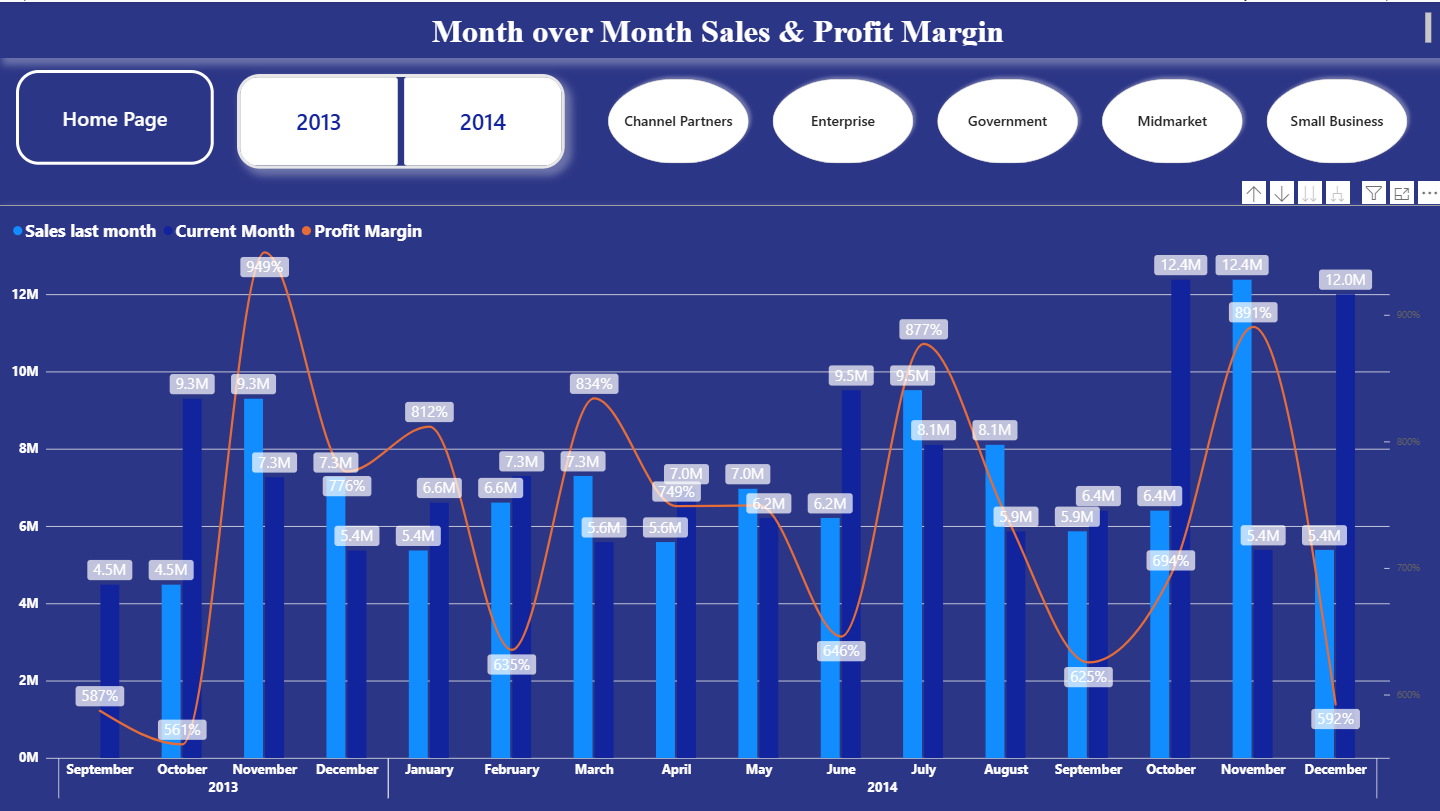

What the dashboard file says about the page in this screenshot:
{"tool":"powerbi","page":{"name":"Q.9-2","canvas":[1920,1080],"ordinal":1},"visuals":[{"type":"textbox","box":[0,0,1920.6,74.5],"z":0},{"type":"advancedSlicerVisual","fields":{"Values":["Sheet1- Finance.Date.Variation.Date Hierarchy.Year"]},"box":[316.6,95.8,436.3,126.4],"z":1000},{"type":"actionButton","box":[22.6,90.4,263.3,126.4],"z":2000},{"type":"lineClusteredColumnComboChart","fields":{"Category":["Sheet1- Finance.Date.Variation.Date Hierarchy.Year","Sheet1- Finance.Date.Variation.Date Hierarchy.Month"],"Y":["Finnace Measures.Sales last month","Finnace Measures.Current Month"],"Y2":["Finnace Measures.Profit Margin"]},"box":[0,269.4,1920,811.1],"z":3000},{"type":"advancedSlicerVisual","fields":{"Values":["Sheet1- Finance.Segment"]},"box":[798,90.4,1089.3,137],"z":4000}]}

Visuals, with their boxes in screenshot pixels (x1, y1, x2, y2), scaled from the page's 1920x1080 canvas onto the 1440x811 screenshot:
textbox: Rect(0, 0, 1439, 56)
advancedSlicerVisual - Sheet1- Finance.Date.Variation.Date Hierarchy.Year: Rect(237, 72, 565, 167)
actionButton: Rect(17, 68, 214, 163)
lineClusteredColumnComboChart - Sheet1- Finance.Date.Variation.Date Hierarchy.Year x Sheet1- Finance.Date.Variation.Date Hierarchy.Month: Rect(0, 202, 1439, 810)
advancedSlicerVisual - Sheet1- Finance.Segment: Rect(598, 68, 1415, 171)
